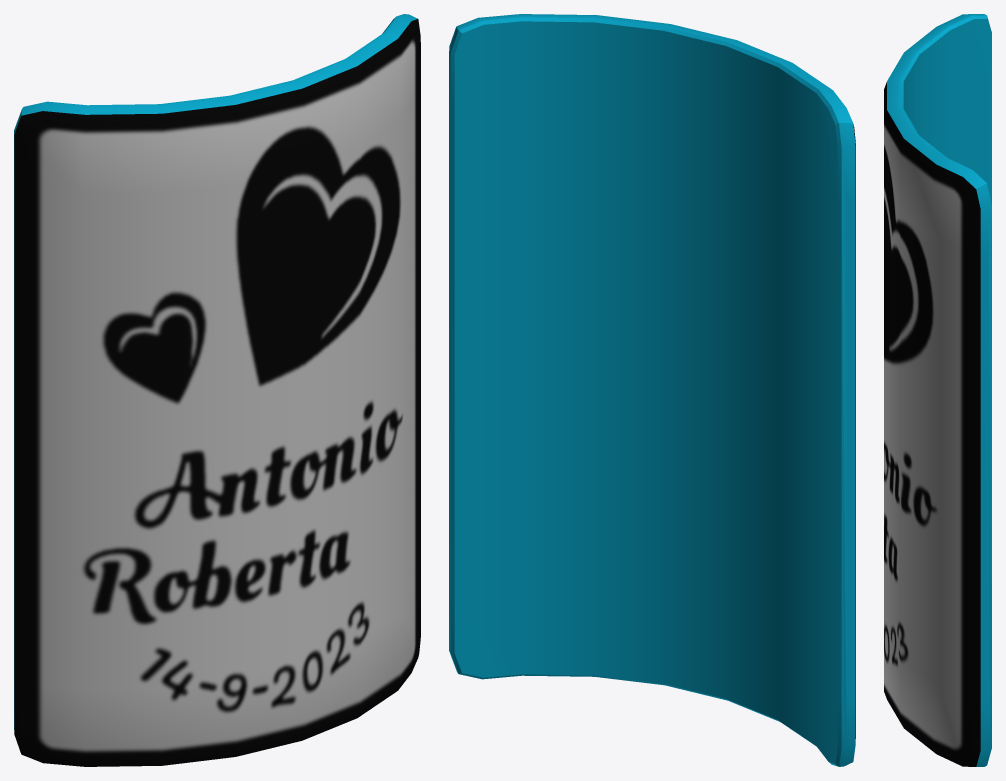
Rendered from etiketta_rettangolare.gltf.
3 views of the same model, side by side, from view 1: azimuth 30°, elevation 25°; view 2: azimuth 150°, elevation 25°; view 3: azimuth 270°, elevation 25° (orthographic). The views are drawn at different scales.
Parts seen in each view (by area): view 1: Tube002 (×2); view 2: Tube002; view 3: Tube002 (×2).
Part boxes in pixels (bbox=[...]): Tube002 (×2): bbox=[14, 14, 420, 766]; Tube002: bbox=[449, 14, 855, 766]; Tube002 (×2): bbox=[884, 14, 991, 766].
Size of the model in its own units: 0.0643 by 0.0995 by 0.0163.
Materials: 2 (1 with a texture image).
